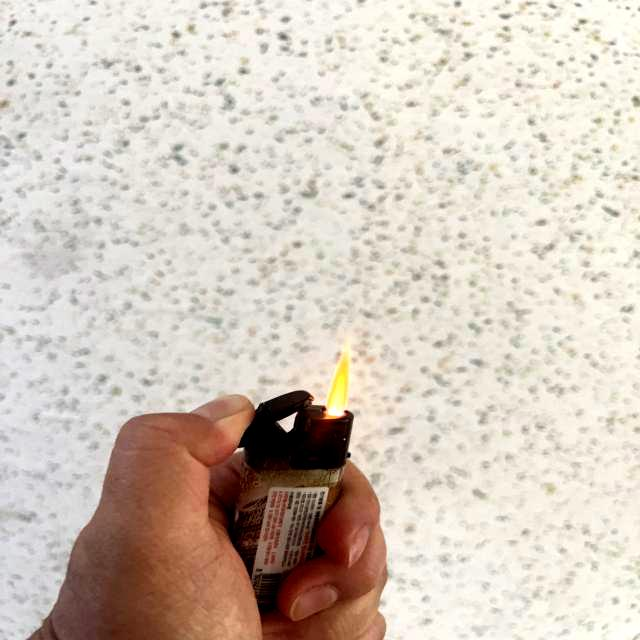fire: (323, 344, 353, 408)
